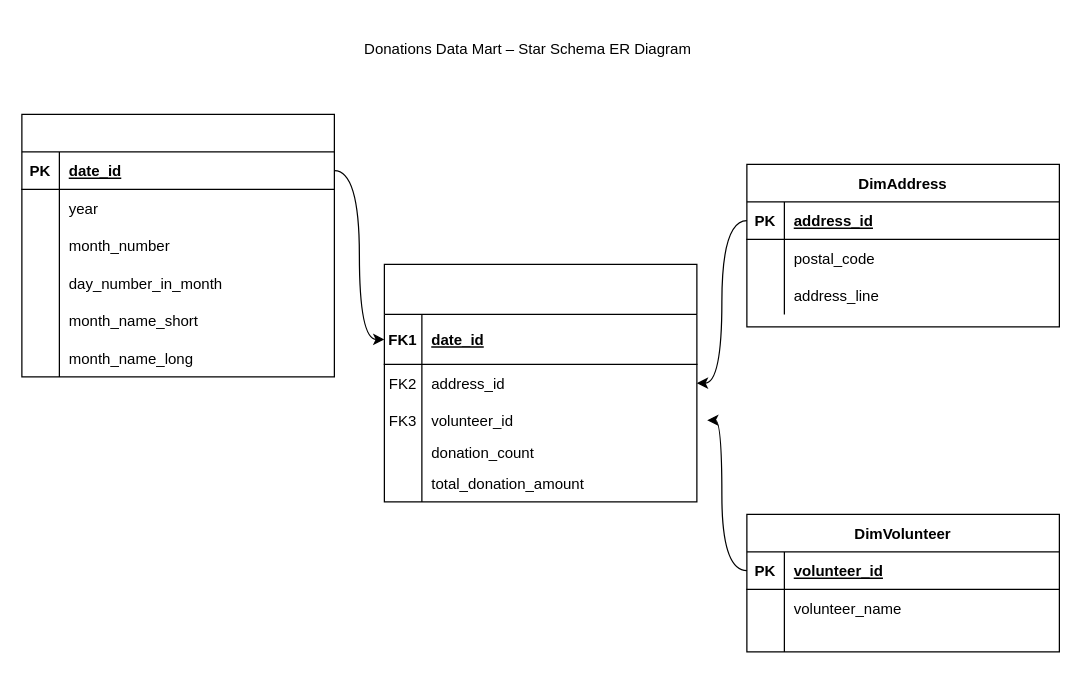
The diagram is 1081 pixels wide and 674 high, and some of its shapes have lost their labels. The box of each missing label's shape, as (x1, y1, x2, y2) in pixels:
DimDate: (21, 113, 334, 377)
FactDonations: (383, 263, 697, 502)
